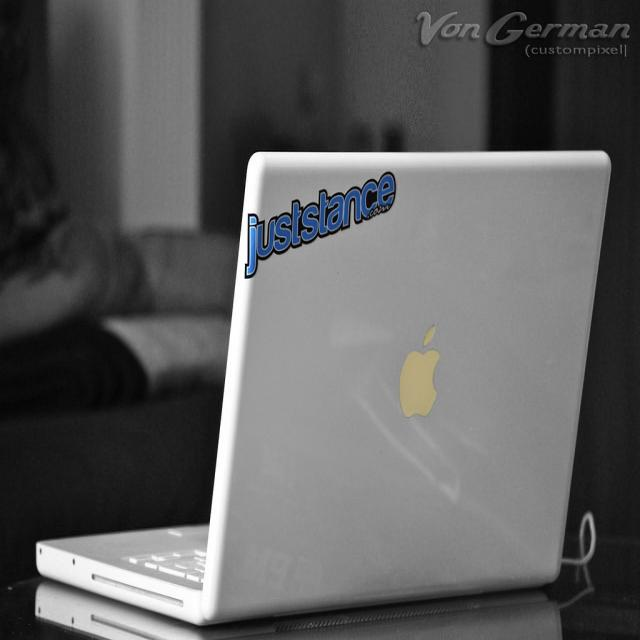apple: (393, 321, 443, 425)
